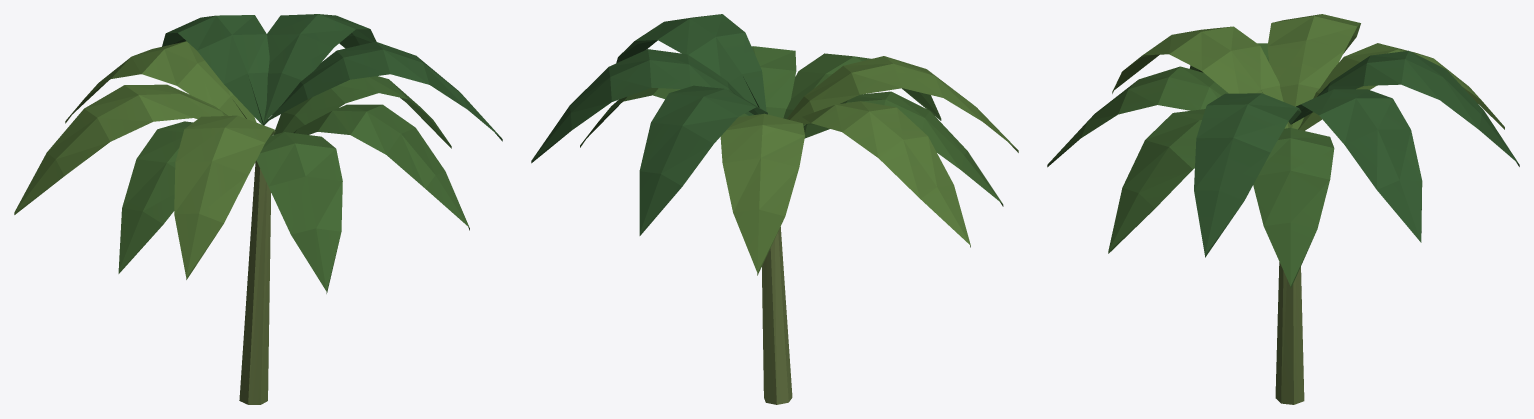
The model's file is jungle-banana.glb.
3 views of the same model, side by side, from view 1: azimuth 30°, elevation 25°; view 2: azimuth 150°, elevation 25°; view 3: azimuth 270°, elevation 25° (orthographic). The views are drawn at different scales.
Parts seen in each view (by area): view 1: Банановые заросли; view 2: Банановые заросли; view 3: Банановые заросли.
Part boxes in pixels (x1,y1,x2,y2): Банановые заросли: (14,14,502,404); Банановые заросли: (531,14,1018,404); Банановые заросли: (1047,14,1519,404).
Bounding box in the file's own units: 6.33 × 4.84 × 5.94.
